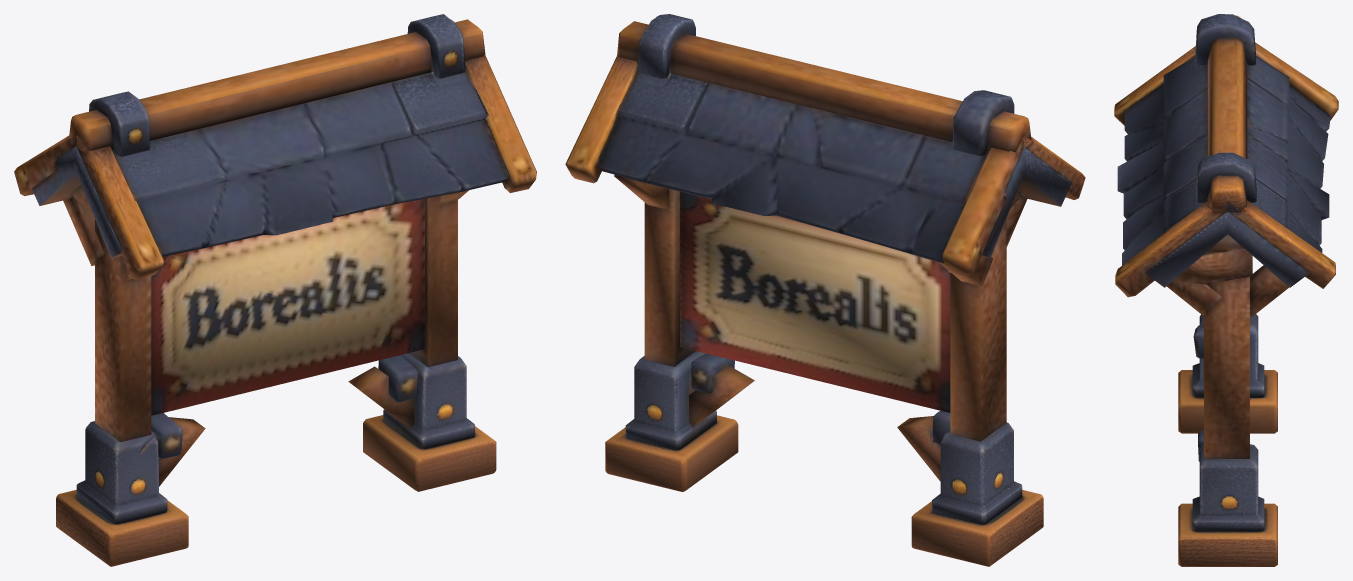
File: fantasy-signboard-tripo-01.glb
3 views of the same model, side by side, from view 1: azimuth 30°, elevation 25°; view 2: azimuth 150°, elevation 25°; view 3: azimuth 270°, elevation 25° (orthographic). The views are drawn at different scales.
Parts seen in each view (by area): view 1: tripo_node_7ae3a759-f30f-4e47-b77b-886ce64d77a5; view 2: tripo_node_7ae3a759-f30f-4e47-b77b-886ce64d77a5; view 3: tripo_node_7ae3a759-f30f-4e47-b77b-886ce64d77a5.
Boxes of the visible parts, x1=… form: tripo_node_7ae3a759-f30f-4e47-b77b-886ce64d77a5: x1=14, y1=14, x2=536, y2=566; tripo_node_7ae3a759-f30f-4e47-b77b-886ce64d77a5: x1=565, y1=14, x2=1085, y2=566; tripo_node_7ae3a759-f30f-4e47-b77b-886ce64d77a5: x1=1114, y1=14, x2=1338, y2=566.
Size of the model in its own units: 0.9551 by 0.998 by 0.5137.
Materials: 1 (1 with a texture image).
